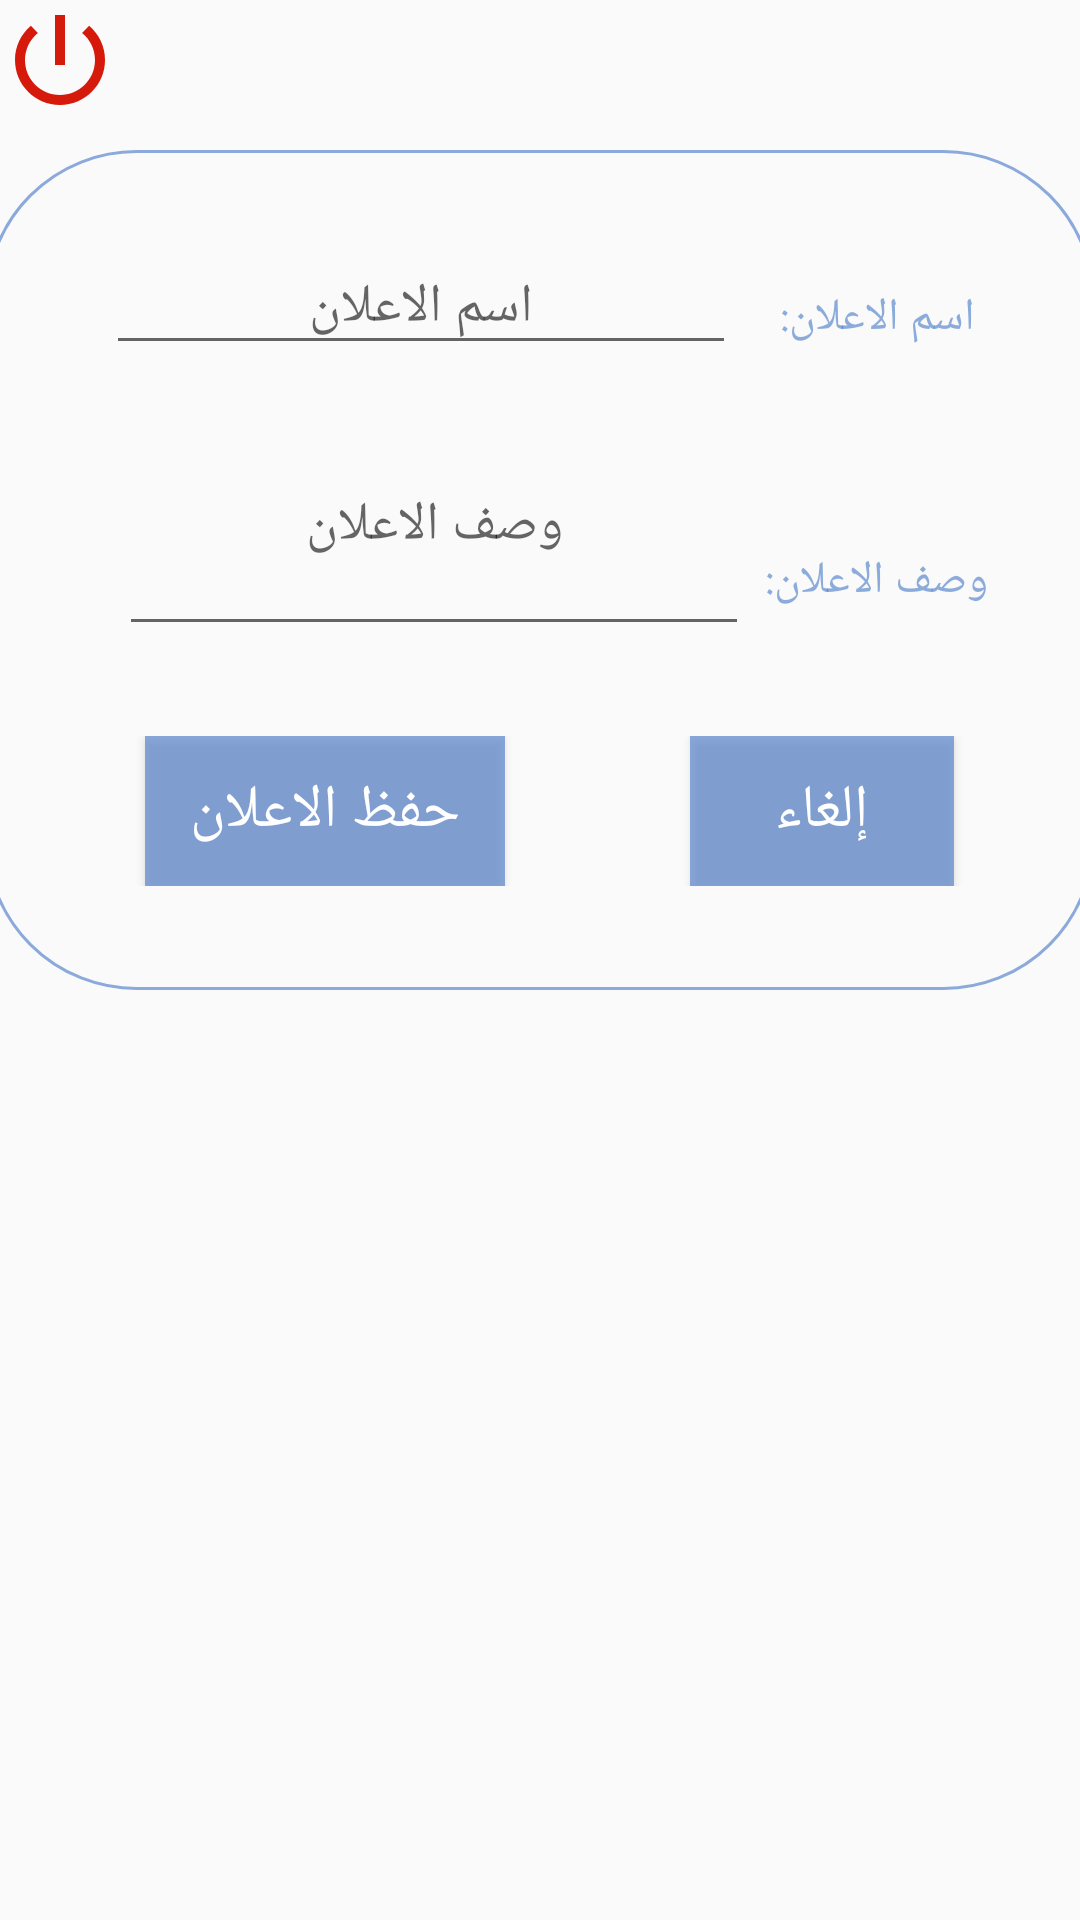

Screen size 1080 × 1920. Icon name, then its center in pixels as point (x, y):
power: point (60, 60)
